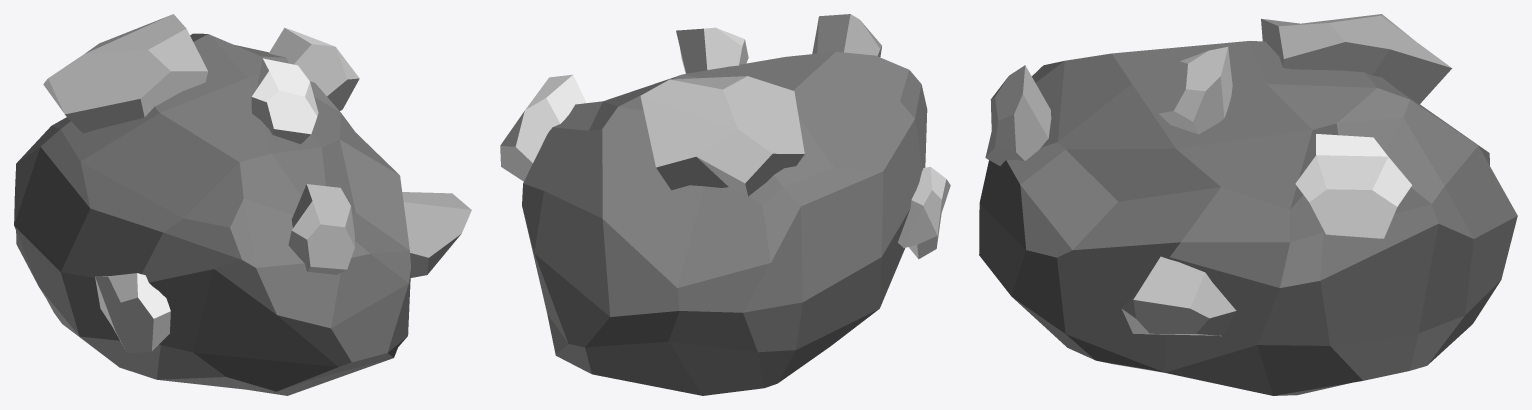
Rendered from MineralNode_05_C.fbx.
3 views of the same model, side by side, from view 1: azimuth 30°, elevation 25°; view 2: azimuth 150°, elevation 25°; view 3: azimuth 270°, elevation 25° (orthographic). The views are drawn at different scales.
Parts seen in each view (by area): view 1: MineralNode_05_C; view 2: MineralNode_05_C; view 3: MineralNode_05_C.
Boxes of the visible parts, box(x1,y1,x2,y2) form: MineralNode_05_C: box(14, 14, 471, 395); MineralNode_05_C: box(500, 14, 950, 395); MineralNode_05_C: box(979, 14, 1517, 395).
Size of the model in its own units: 85.56 by 66.36 by 103.
